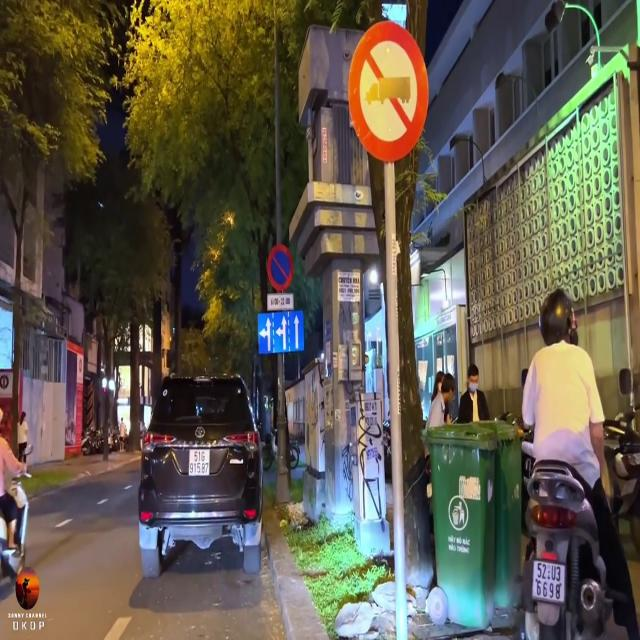bien_trang: (532, 561, 570, 602), (188, 447, 207, 475)
